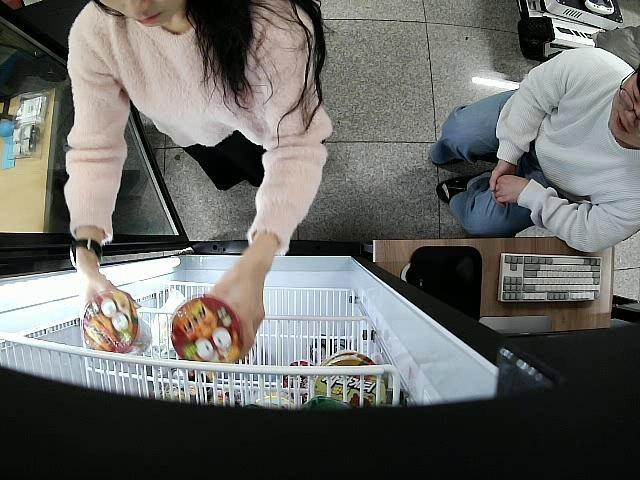06_nuguri_S: (82, 288, 152, 356), (172, 296, 242, 364)
